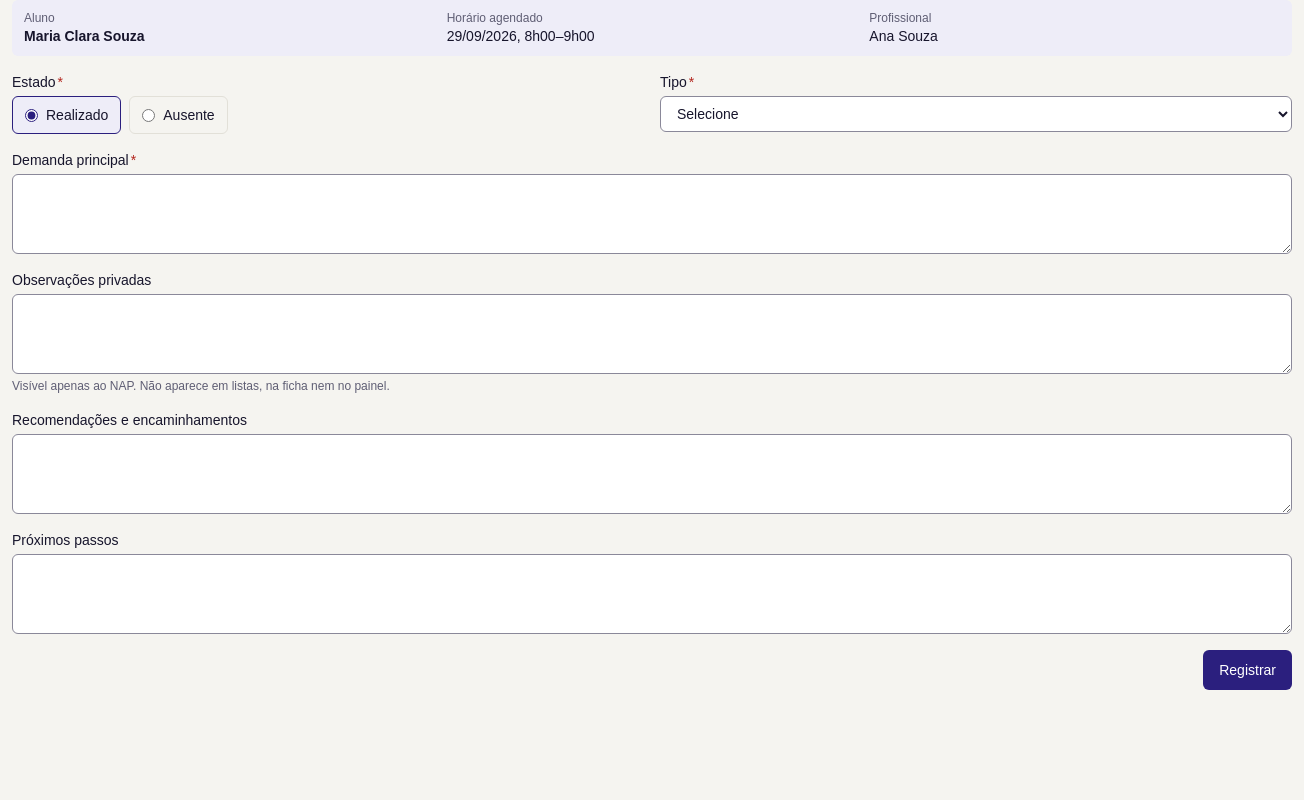
AtendimentoForm › realizado_sem_demanda_mostra_erro
The image size is (1304, 800).
Click the button "Registrar": (1248, 670) [1203,650,1292,690]
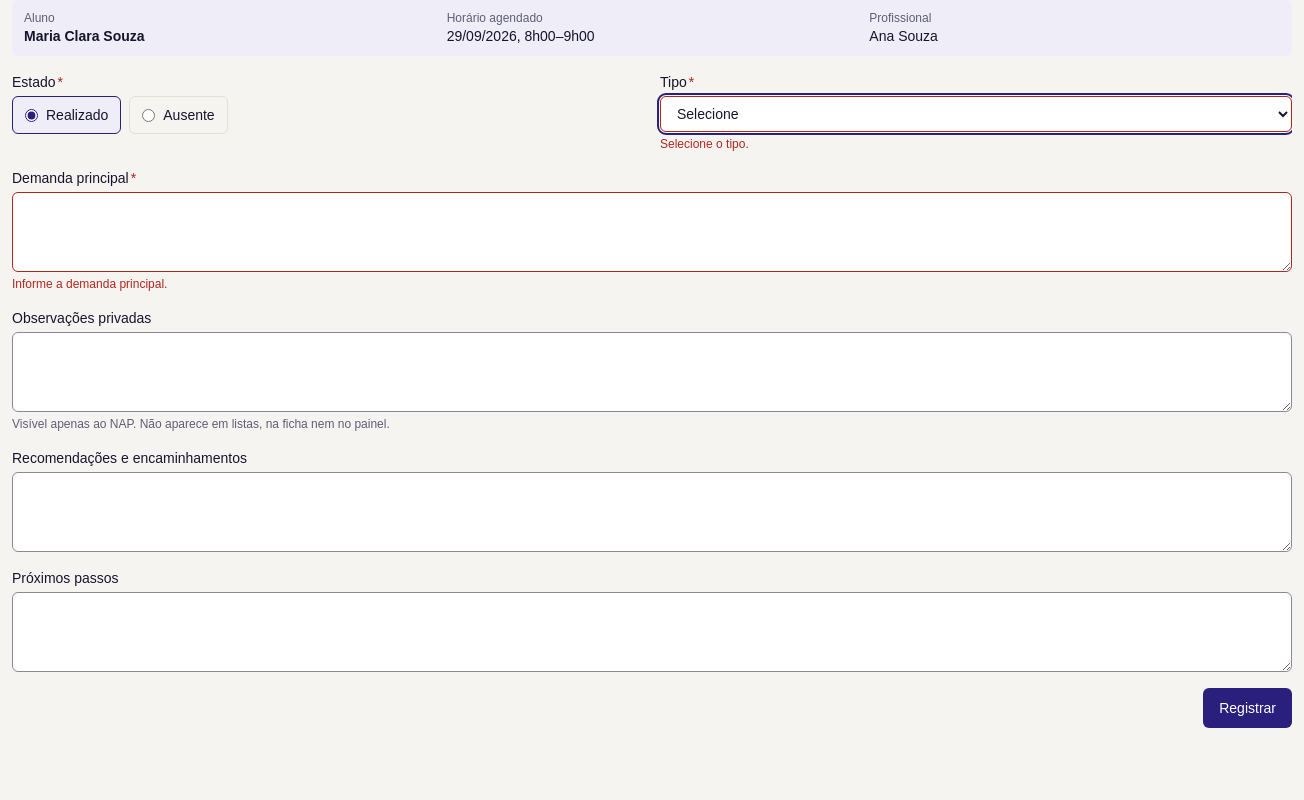
Expected: the text "Informe a demanda principal." is shown, [12,277,167,291]
